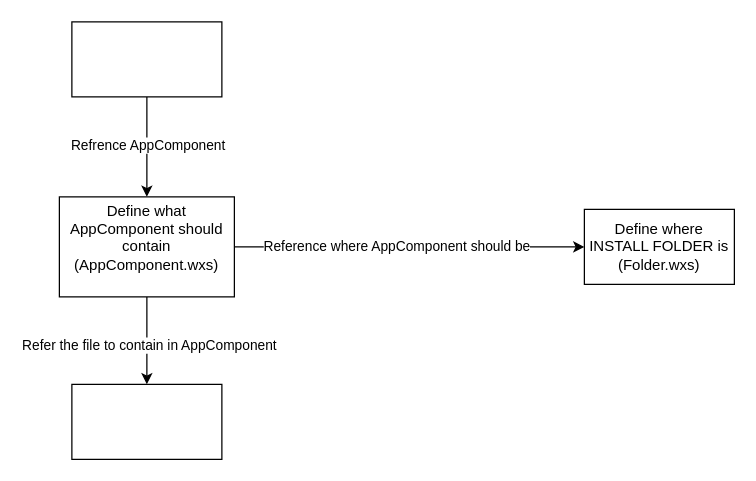
The diagram is 756 pixels wide and 481 high, and some of its shapes have lost their labels. Here are the shapes that lost their labels. From the top down, the box of each, then its label:
(71, 21, 222, 97): Main component (Package.wxs)
(71, 383, 222, 459): Program exe
